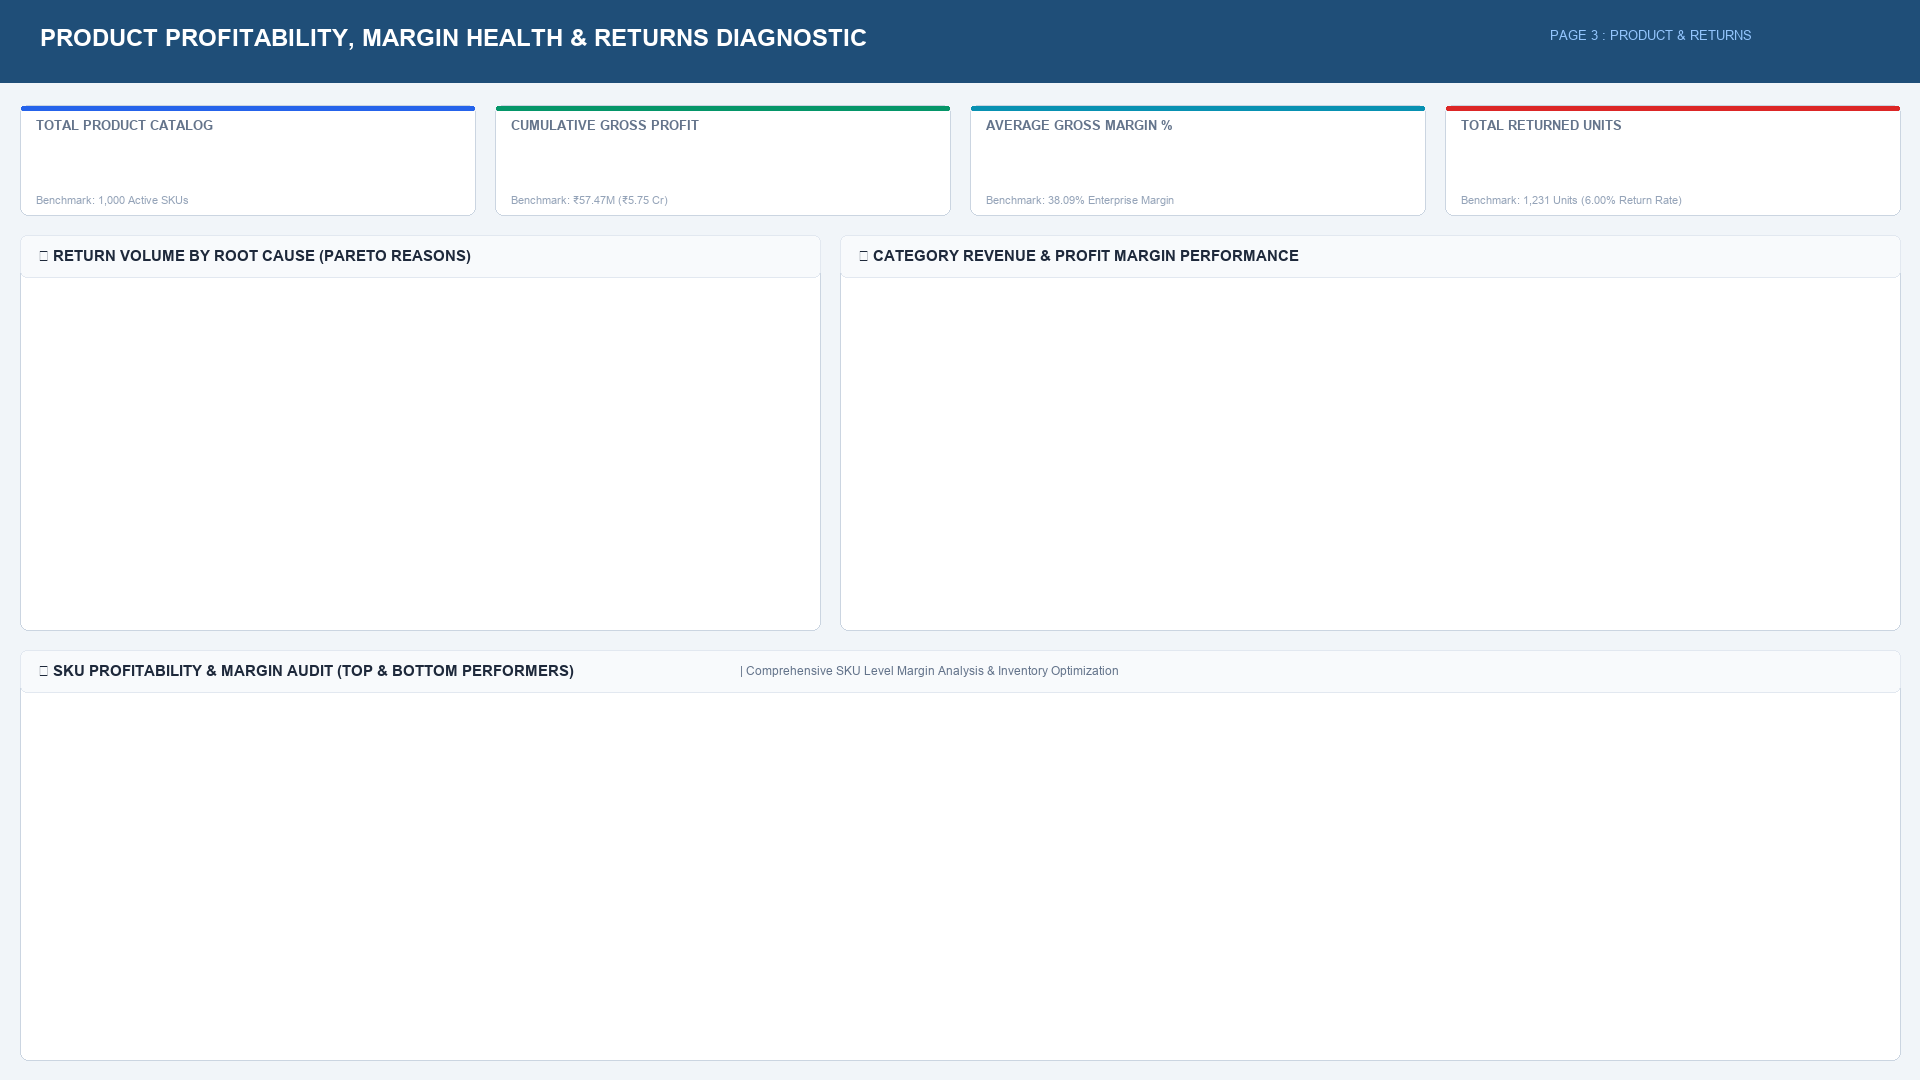

This screenshot's page, from the dashboard's own definition file:
{"tool":"powerbi","page":{"name":"Product & Returns Diagnotic","canvas":[1920,1080],"ordinal":2},"visuals":[{"type":"cardVisual","fields":{"Data":["_Measures.Total Products"]},"box":[21.7,101.3,456,110.4],"z":0},{"type":"cardVisual","fields":{"Data":["_Measures.Gross Profit"]},"box":[494,101.3,465.1,110.4],"z":1000},{"type":"cardVisual","fields":{"Data":["_Measures.Gross Margin %"]},"box":[975.4,101.3,452.4,110.4],"z":2000},{"type":"cardVisual","fields":{"Data":["_Measures.Total Returns"]},"box":[1444.1,101.3,454.2,110.4],"z":3000},{"type":"clusteredBarChart","title":"Return Reasons","fields":{"Category":["Fact_Returns.reason"],"Y":["_Measures.Total Returns"]},"box":[20,235,800,395],"z":4000},{"type":"clusteredColumnChart","title":"Category Profitability","fields":{"Category":["Dim_Products.category"],"Y":["_Measures.Total Net Revenue","_Measures.Gross Profit"]},"box":[840,235,1060,395],"z":5000},{"type":"tableEx","title":"SKU Margin Performance","fields":{"Values":["Dim_Products.product_name","Dim_Products.category","Dim_Products.sell_price","_Measures.Total Net Revenue","_Measures.Gross Profit","_Measures.Gross Margin %"]},"box":[20,650,1880,410],"z":6000},{"type":"shape","box":[0,0,1920.1,81.4],"z":7000},{"type":"textbox","box":[0,23.5,1920.1,57.9],"z":8000}]}

Visuals, with their boxes in screenshot pixels (x1, y1, x2, y2), scaled from the page's 1920x1080 canvas onto the 1920x1080 screenshot:
cardVisual - _Measures.Total Products: box=[22, 101, 478, 212]
cardVisual - _Measures.Gross Profit: box=[494, 101, 959, 212]
cardVisual - _Measures.Gross Margin %: box=[975, 101, 1428, 212]
cardVisual - _Measures.Total Returns: box=[1444, 101, 1898, 212]
"Return Reasons" clusteredBarChart: box=[20, 235, 820, 630]
"Category Profitability" clusteredColumnChart: box=[840, 235, 1900, 630]
"SKU Margin Performance" tableEx: box=[20, 650, 1900, 1060]
shape: box=[0, 0, 1919, 81]
textbox: box=[0, 24, 1919, 81]
